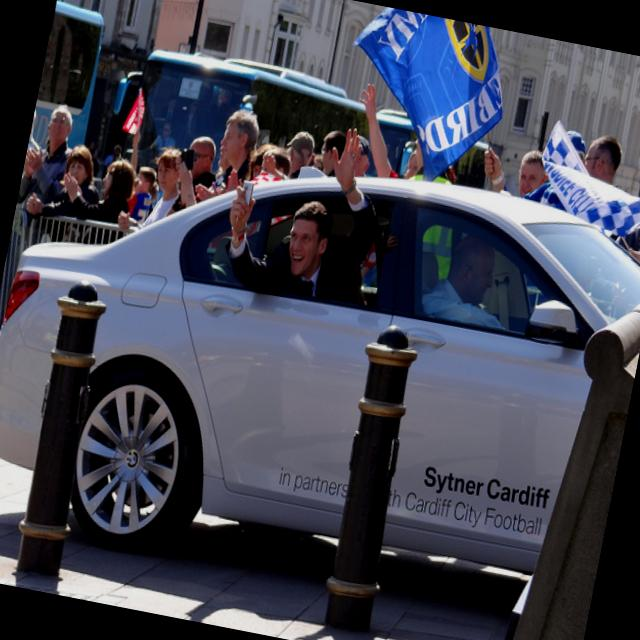Vehicle: (0, 101, 640, 626), (130, 44, 378, 198), (28, 0, 110, 152)
